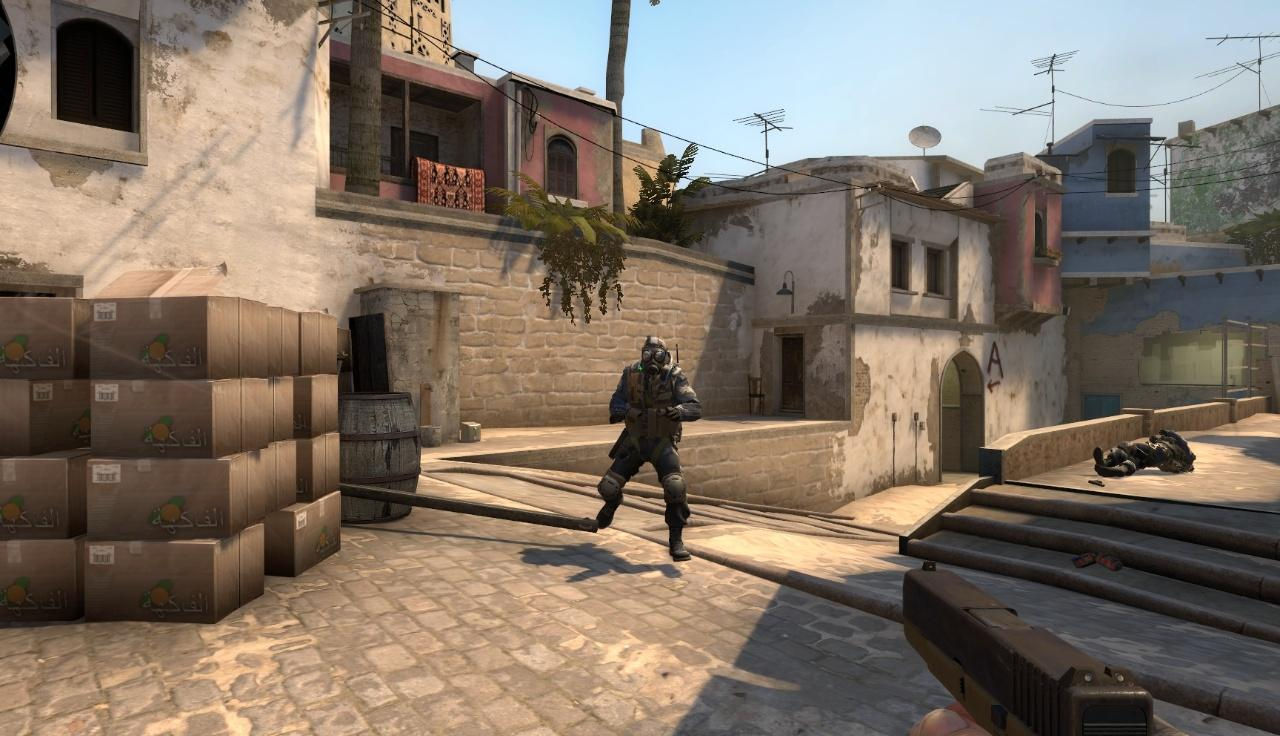ct: (596, 336, 694, 562)
cthead: (641, 336, 672, 374)
pistol: (901, 558, 1174, 735)
